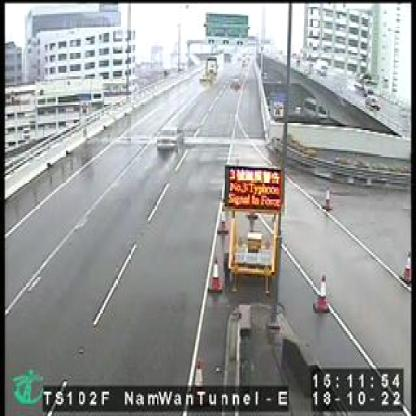Car: (156, 125, 185, 153), (229, 73, 242, 91)
